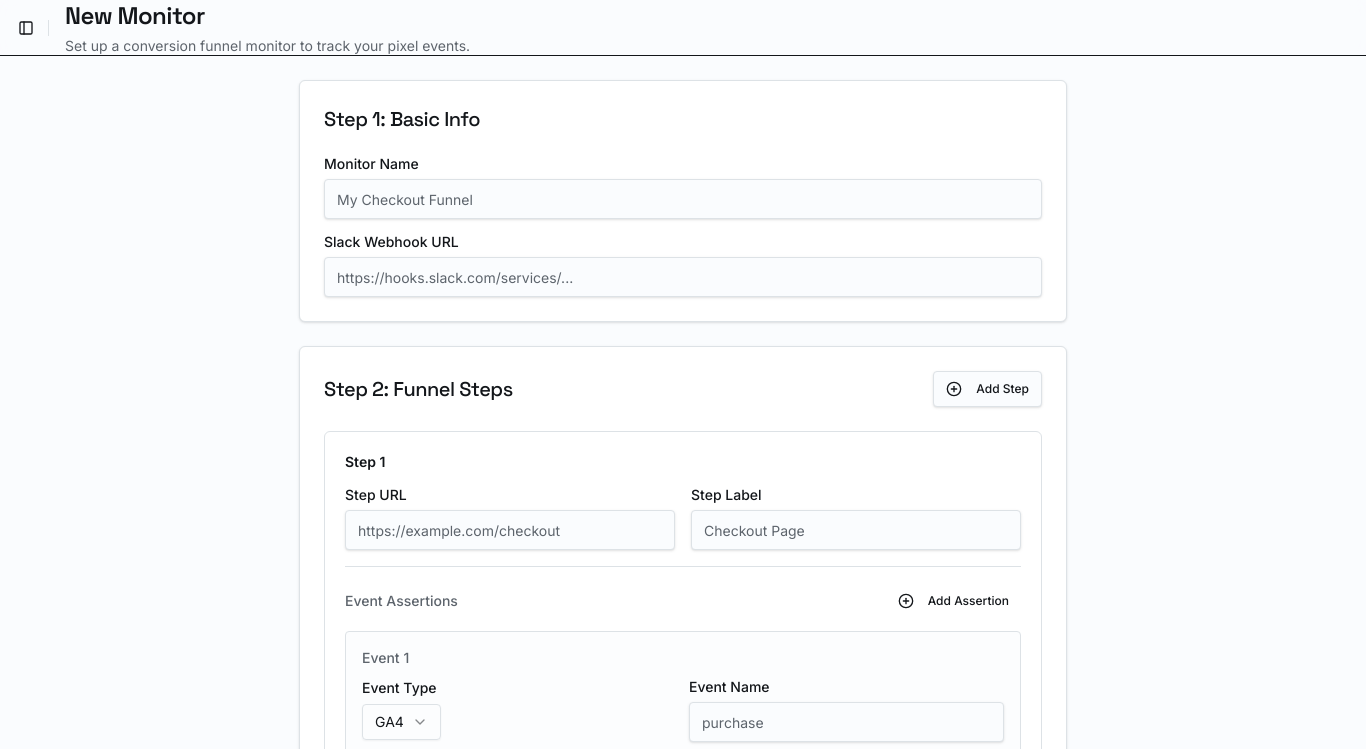
Test: task-3-3: new monitor creation form › form rejects non-hooks.slack.com webhook client-side
# Fill in the monitor name
Type "My Monitor" into the field labelled "Monitor Name" at (683,199), box [324,179,1042,219]
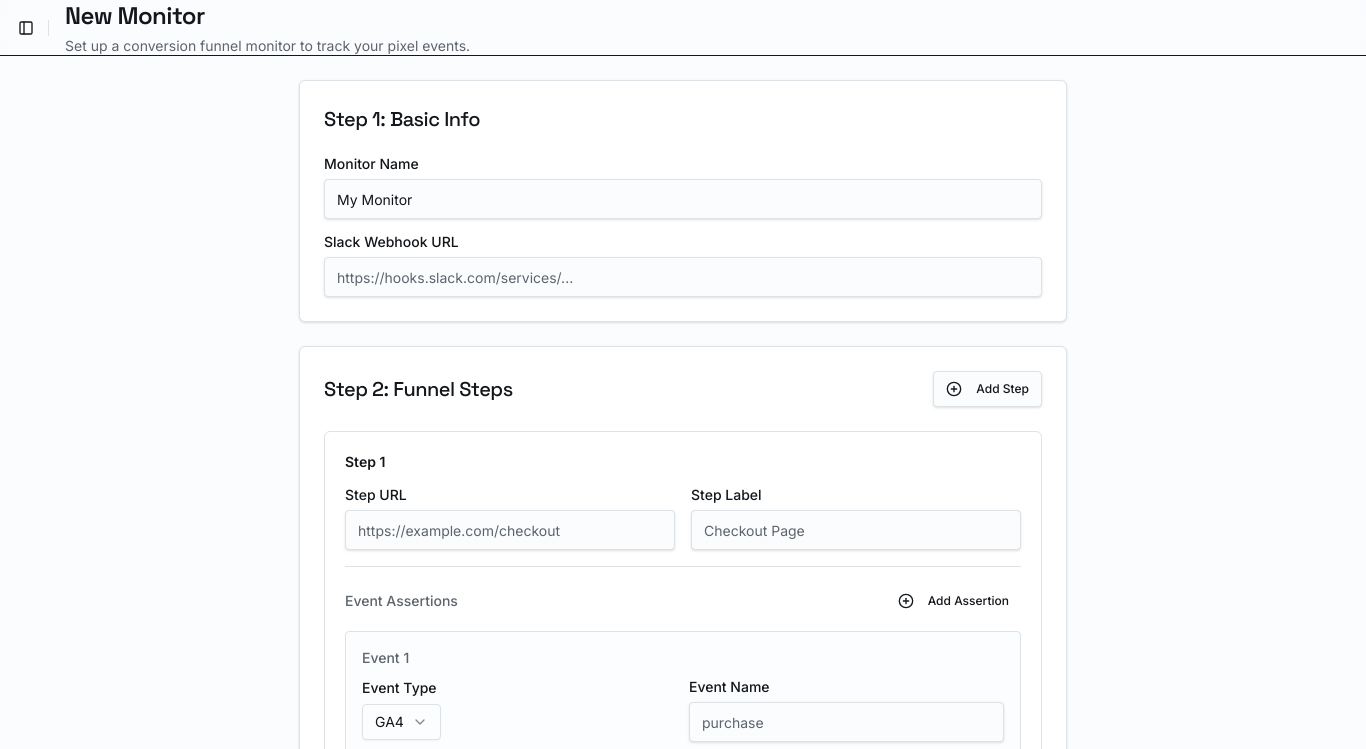
# Fill in an invalid Slack webhook URL
Type "https://evil.com" into the field labelled "Slack Webhook URL" at (683,277), box [324,257,1042,297]
(page scrolled)
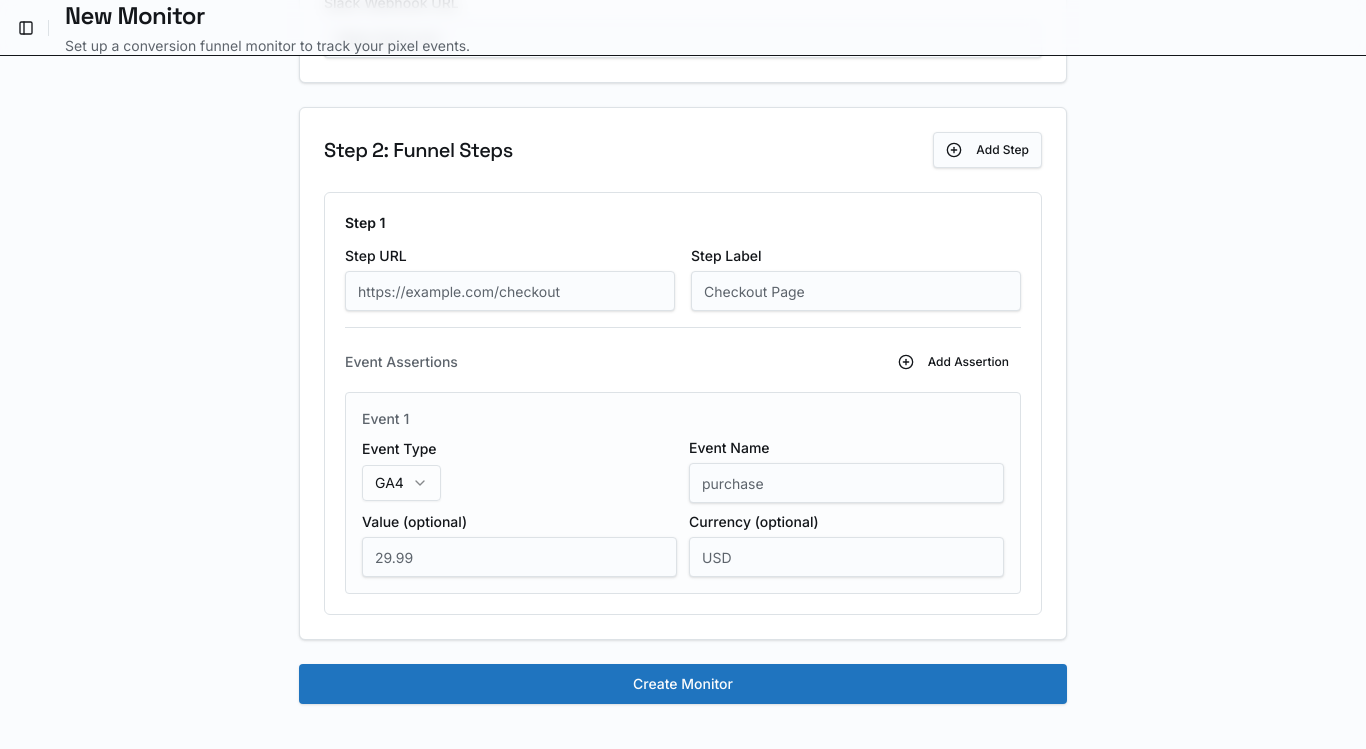
# Click the submit button
Click the button "Create Monitor" at (683,684), box [299,664,1067,704]
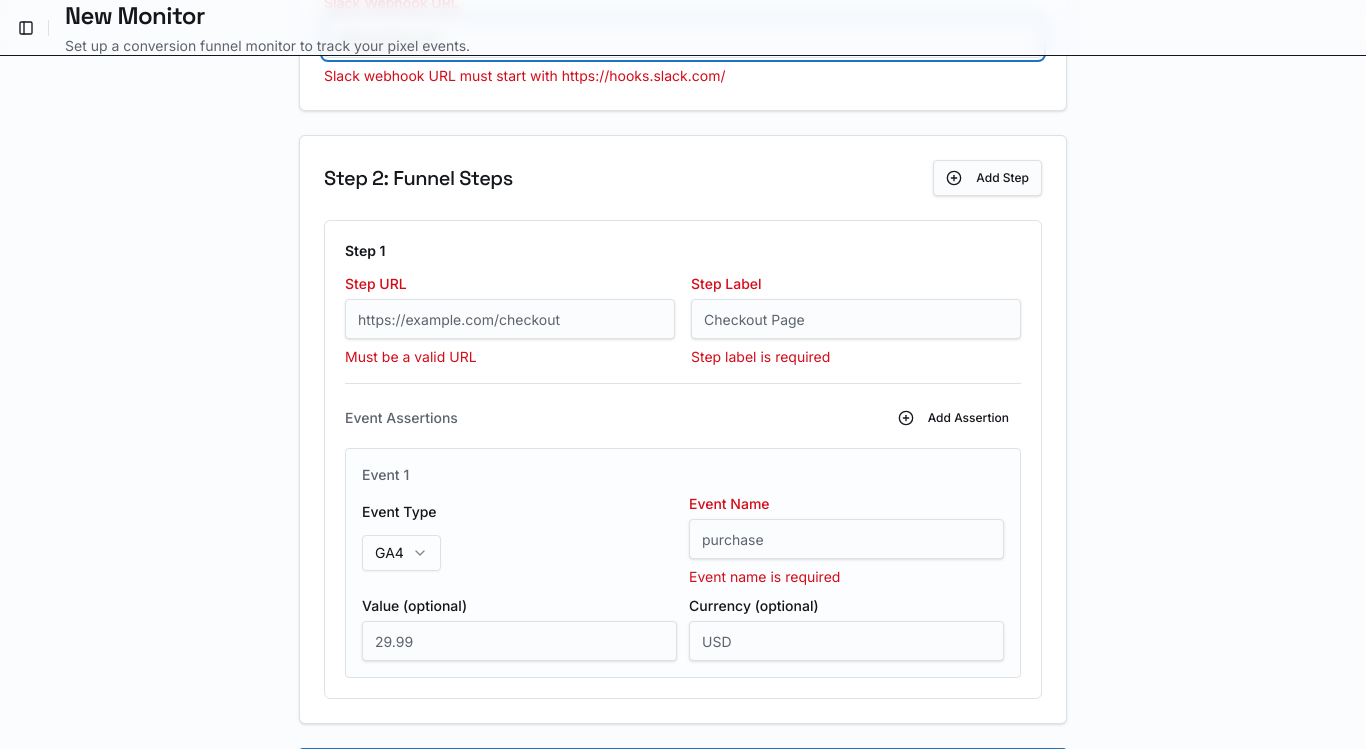
Result: the text "Slack webhook URL must start with https://hooks.slack.com/" is shown at [324,67,726,84]
